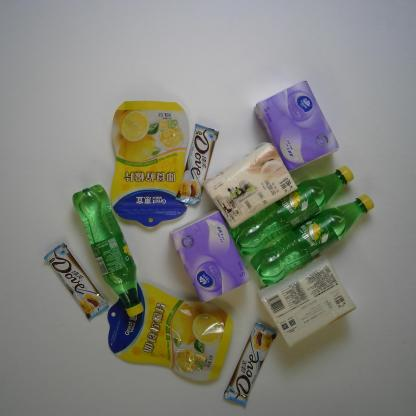Chocolate: (41, 241, 112, 323), (220, 313, 279, 408), (166, 118, 220, 207)
Dried Fruit: (105, 281, 234, 384), (107, 98, 194, 232)
Drink: (224, 163, 357, 258), (249, 191, 376, 288), (73, 185, 147, 318)
Tissue: (256, 252, 360, 351), (199, 138, 300, 231), (251, 76, 340, 178), (166, 206, 252, 306)
